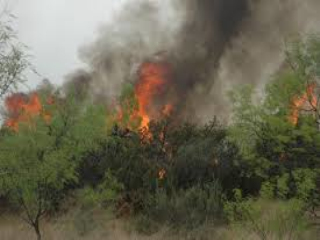fire: (126, 60, 177, 143), (7, 86, 59, 128), (286, 86, 318, 124)
smoke: (179, 1, 264, 131)
